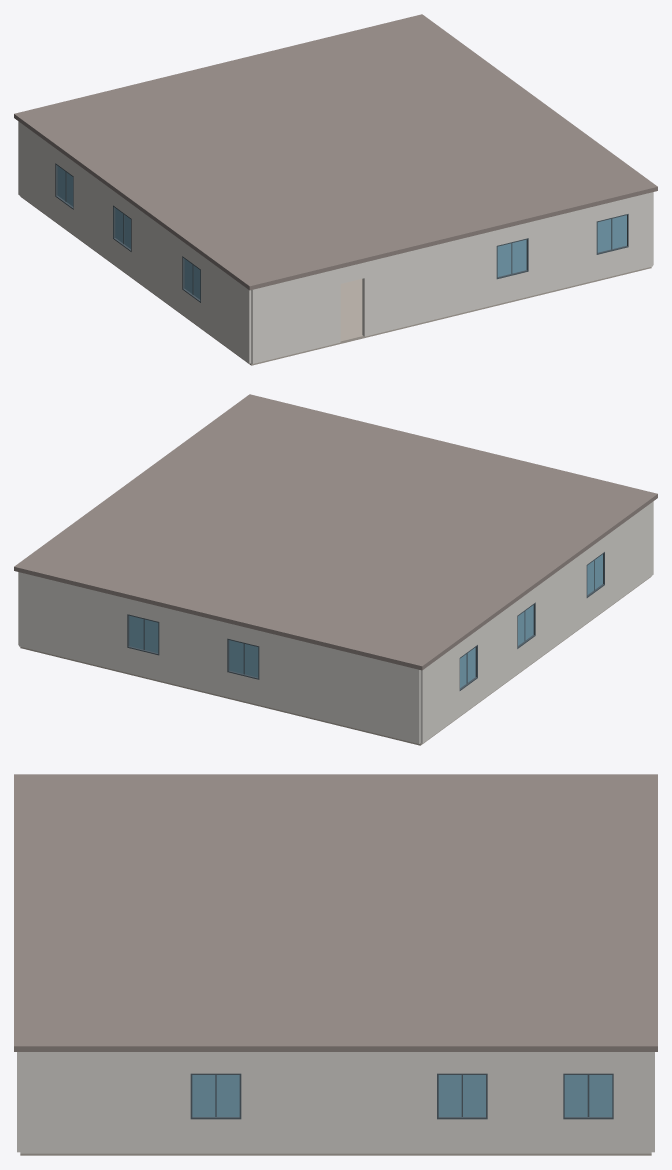
File: aab-house-f19eaa7fd8.glb
3 views of the same model, one above another, from view 1: azimuth 30°, elevation 25°; view 2: azimuth 150°, elevation 25°; view 3: azimuth 270°, elevation 25° (orthographic). The views are drawn at different scales.
Visible parts, largest first — view 1: roof_0, wall_0_15, wall_0_14, wall_0_16, wall_0_20, wall_0_21, wall_0_19, wall_0_18, floor_slab_0, wall_0_17, window_0_7_pane, window_0_9_pane (+6 smaller); view 2: roof_0, wall_0_0, wall_0_2, wall_0_1, wall_0_20, wall_0_21, wall_0_18, wall_0_19, floor_slab_0, window_0_2_pane, window_0_1_pane, wall_0_41 (+3 smaller); view 3: roof_0, wall_0_34, wall_0_35, wall_0_33, wall_0_32, window_0_3_pane, window_0_8_pane, window_0_4_pane, floor_slab_0, wall_0_65, wall_0_48, wall_0_51 (+3 smaller).
Part boxes in pixels (x1=…): roof_0: x1=14, y1=14, x2=657, y2=290; wall_0_15: x1=362, y1=230, x2=496, y2=336; wall_0_14: x1=251, y1=268, x2=340, y2=363; wall_0_16: x1=528, y1=206, x2=596, y2=296; wall_0_20: x1=131, y1=204, x2=182, y2=314; wall_0_21: x1=201, y1=255, x2=251, y2=363; wall_0_19: x1=73, y1=162, x2=112, y2=263; wall_0_18: x1=18, y1=121, x2=55, y2=221; floor_slab_0: x1=20, y1=196, x2=651, y2=365; wall_0_17: x1=628, y1=192, x2=652, y2=271; window_0_7_pane: x1=497, y1=239, x2=526, y2=276; window_0_9_pane: x1=597, y1=215, x2=626, y2=252; roof_0: x1=14, y1=394, x2=657, y2=670; wall_0_0: x1=259, y1=631, x2=420, y2=743; wall_0_2: x1=19, y1=572, x2=127, y2=672; wall_0_1: x1=159, y1=606, x2=227, y2=696; wall_0_20: x1=535, y1=550, x2=586, y2=660; wall_0_21: x1=605, y1=501, x2=653, y2=609; wall_0_18: x1=420, y1=643, x2=459, y2=743; wall_0_19: x1=478, y1=601, x2=517, y2=702; floor_slab_0: x1=20, y1=576, x2=651, y2=745; window_0_2_pane: x1=129, y1=615, x2=158, y2=652; window_0_1_pane: x1=229, y1=640, x2=258, y2=677; wall_0_41: x1=227, y1=672, x2=259, y2=704; roof_0: x1=14, y1=774, x2=657, y2=1051; wall_0_34: x1=241, y1=1052, x2=436, y2=1153; wall_0_35: x1=20, y1=1052, x2=190, y2=1153; wall_0_33: x1=487, y1=1052, x2=563, y2=1153; wall_0_32: x1=613, y1=1052, x2=651, y2=1153; window_0_3_pane: x1=564, y1=1075, x2=612, y2=1116; window_0_8_pane: x1=192, y1=1075, x2=239, y2=1116; window_0_4_pane: x1=438, y1=1075, x2=485, y2=1116; floor_slab_0: x1=20, y1=1153, x2=651, y2=1155; wall_0_65: x1=190, y1=1119, x2=241, y2=1153; wall_0_48: x1=563, y1=1119, x2=613, y2=1153; wall_0_51: x1=437, y1=1119, x2=487, y2=1153.
Size of the model in its own units: 51 by 9.8 by 51.
